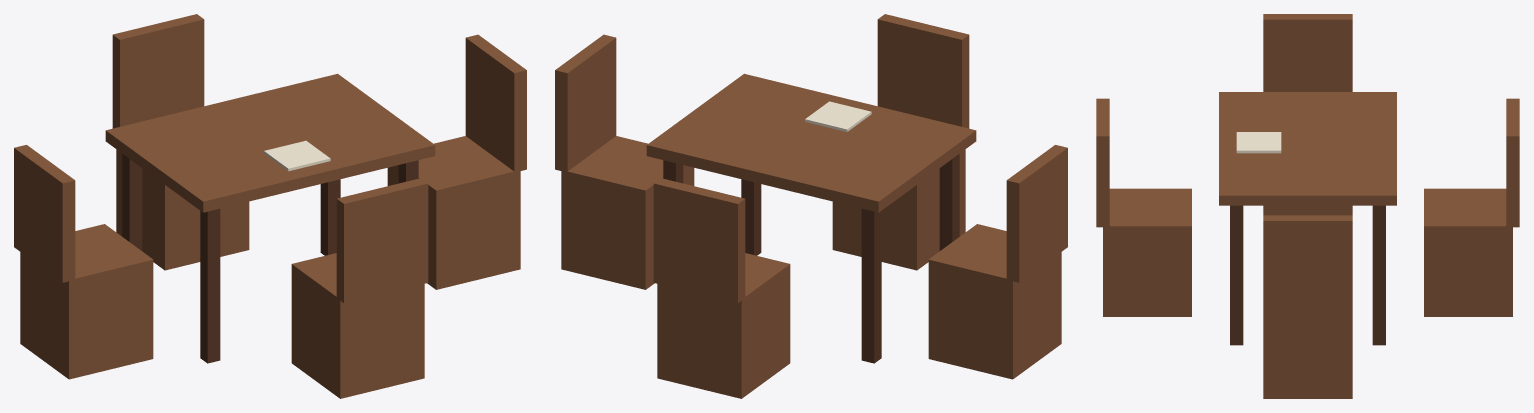
Rendered from table.glb.
3 renders of one model, left to right at view 1: azimuth 30°, elevation 25°; view 2: azimuth 150°, elevation 25°; view 3: azimuth 270°, elevation 25°, orthographic. The views are drawn at different scales.
Visible parts, largest first — view 1: Box1, Box12, Box6, Box10, Box7, Box9, Box13, Box11, Box8, Box3, Box2, Box4 (+1 smaller); view 2: Box1, Box12, Box8, Box10, Box9, Box7, Box13, Box11, Box6, Box2, Box3, Box5 (+1 smaller); view 3: Box1, Box6, Box8, Box11, Box10, Box13, Box4, Box5, Box7, Box9, Box14, Box12.
Boxes of the visible parts, <box> form: Box1: <box>105,73,435,212</box>; Box12: <box>20,224,153,379</box>; Box6: <box>291,253,424,398</box>; Box10: <box>387,136,520,289</box>; Box7: <box>336,178,428,303</box>; Box9: <box>112,14,204,128</box>; Box13: <box>14,145,75,282</box>; Box11: <box>465,34,526,172</box>; Box8: <box>116,149,249,270</box>; Box3: <box>200,208,220,363</box>; Box2: <box>122,154,142,250</box>; Box4: <box>320,179,340,255</box>; Box1: <box>646,73,976,212</box>; Box12: <box>928,224,1061,379</box>; Box8: <box>657,253,790,398</box>; Box10: <box>561,136,694,289</box>; Box9: <box>653,178,745,303</box>; Box7: <box>877,14,969,128</box>; Box13: <box>1006,145,1067,282</box>; Box11: <box>555,34,616,171</box>; Box6: <box>832,149,965,270</box>; Box2: <box>861,208,881,363</box>; Box3: <box>939,154,959,250</box>; Box5: <box>741,179,761,255</box>; Box1: <box>1219,92,1396,205</box>; Box6: <box>1103,188,1191,316</box>; Box8: <box>1424,188,1512,316</box>; Box11: <box>1263,215,1352,311</box>; Box10: <box>1263,312,1352,398</box>; Box13: <box>1263,14,1352,91</box>; Box4: <box>1372,205,1385,345</box>; Box5: <box>1230,205,1243,345</box>; Box7: <box>1096,98,1109,227</box>; Box9: <box>1506,98,1519,227</box>; Box14: <box>1236,132,1281,153</box>; Box12: <box>1263,205,1352,215</box>.
Bounding box in the file's own units: 2.2 × 0.895 × 1.9.
